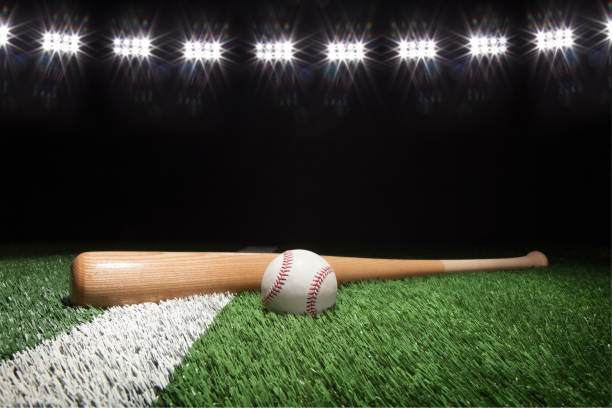bita: (69, 252, 544, 308)
